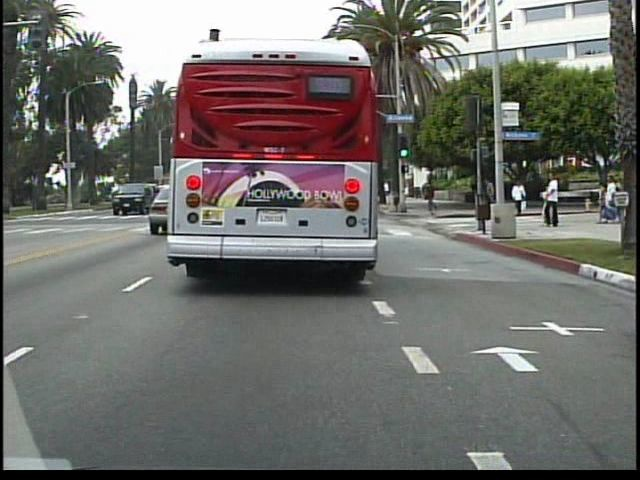person: (543, 168, 564, 227), (482, 173, 499, 215), (424, 177, 440, 217), (514, 178, 528, 211)
